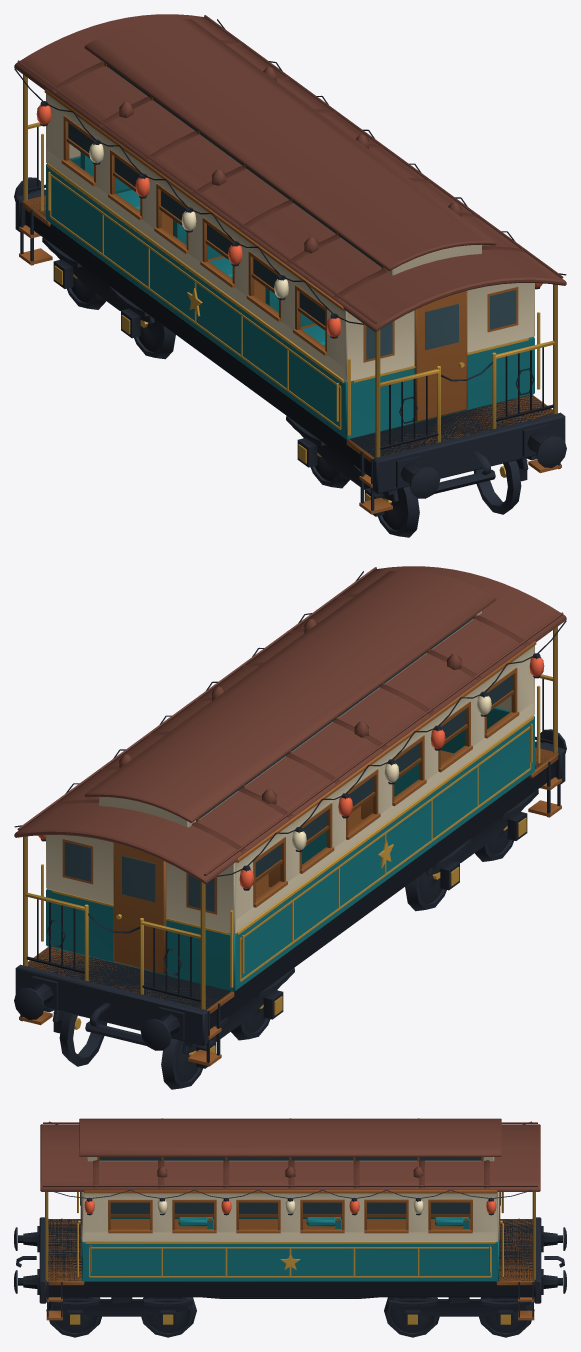
Rendered from coach.glb.
3 renders of one model, top to bottom at view 1: azimuth 30°, elevation 25°; view 2: azimuth 150°, elevation 25°; view 3: azimuth 270°, elevation 25°, orthographic. The views are drawn at different scales.
Parts seen in each view (by area): view 1: coach Coach roof, coach Engine black, coach Coach teal, coach Coach cream, coach Coach teak, coach Brass, coach Window glow, Wheel1 Engine black, Garland Lantern glow, Garland Engine black, Wheel3 Engine black, Wheel2 Engine black (+1 smaller); view 2: coach Coach roof, coach Engine black, coach Coach teal, coach Coach cream, coach Coach teak, coach Brass, coach Window glow, Wheel4 Engine black, Garland Lantern glow, Garland Engine black, Wheel2 Engine black, Wheel1 Engine black (+1 smaller); view 3: coach Coach roof, coach Engine black, coach Coach teal, coach Coach cream, coach Coach teak, coach Brass, coach Window glow, Wheel2 Engine black, Wheel3 Engine black, Garland Engine black, Garland Lantern glow, Wheel1 Engine black (+1 smaller).
Boxes of the visible parts, box(x1,y1,x2,y2) form: coach Coach roof: box(14, 14, 566, 331); coach Engine black: box(14, 126, 566, 516); coach Coach teal: box(46, 152, 534, 439); coach Coach cream: box(46, 59, 534, 382); coach Coach teak: box(19, 63, 561, 514); coach Brass: box(23, 74, 557, 501); coach Window glow: box(68, 64, 516, 359); Wheel1 Engine black: box(378, 460, 521, 537); Garland Lantern glow: box(36, 105, 542, 336); Garland Engine black: box(14, 19, 566, 338); Wheel3 Engine black: box(134, 319, 175, 359); Wheel2 Engine black: box(310, 455, 349, 488); coach Coach roof: box(14, 566, 566, 883); coach Engine black: box(14, 678, 566, 1068); coach Coach teal: box(46, 707, 534, 991); coach Coach cream: box(46, 611, 534, 934); coach Coach teak: box(19, 615, 561, 1066); coach Brass: box(23, 626, 557, 1053); coach Window glow: box(64, 616, 512, 911); Wheel4 Engine black: box(59, 1012, 202, 1089); Garland Lantern glow: box(38, 657, 544, 888); Garland Engine black: box(14, 571, 566, 890); Wheel2 Engine black: box(405, 871, 446, 911); Wheel1 Engine black: box(475, 828, 513, 861); coach Coach roof: box(40, 1118, 540, 1191); coach Engine black: box(14, 1217, 566, 1326); coach Coach teal: box(82, 1217, 498, 1281); coach Coach cream: box(82, 1157, 498, 1242); coach Coach teak: box(46, 1157, 534, 1320); coach Brass: box(45, 1192, 535, 1324); coach Window glow: box(80, 1157, 500, 1214); Wheel2 Engine black: box(141, 1297, 196, 1337); Wheel3 Engine black: box(384, 1297, 439, 1337); Garland Engine black: box(49, 1121, 531, 1215); Garland Lantern glow: box(84, 1200, 496, 1214); Wheel1 Engine black: box(46, 1297, 101, 1337).
Bounding box in the file's own units: 2.95 × 3.61 × 9.5.
